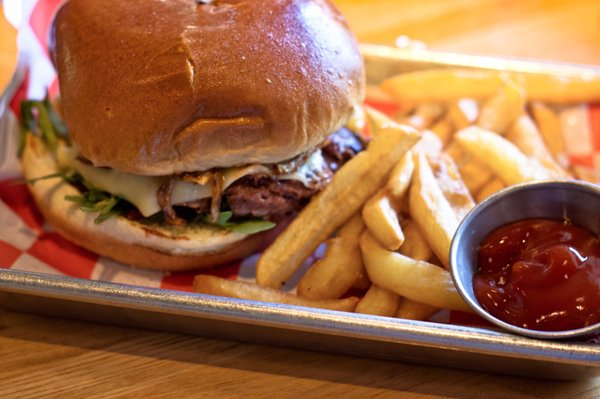soup: (17, 1, 374, 274)
sushi: (449, 181, 600, 342)
